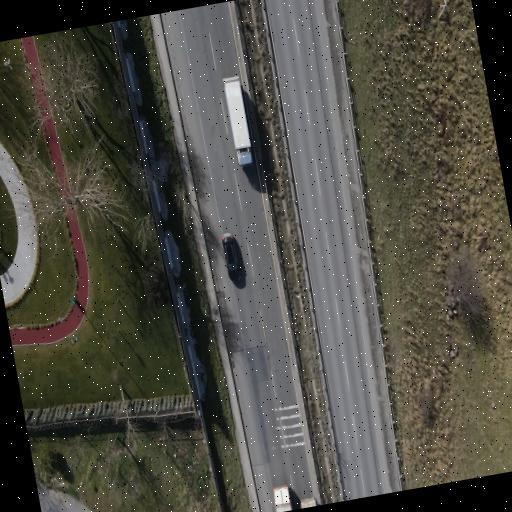car: (222, 233, 239, 281)
truck: (222, 76, 251, 165), (273, 485, 291, 511), (300, 497, 315, 508)
